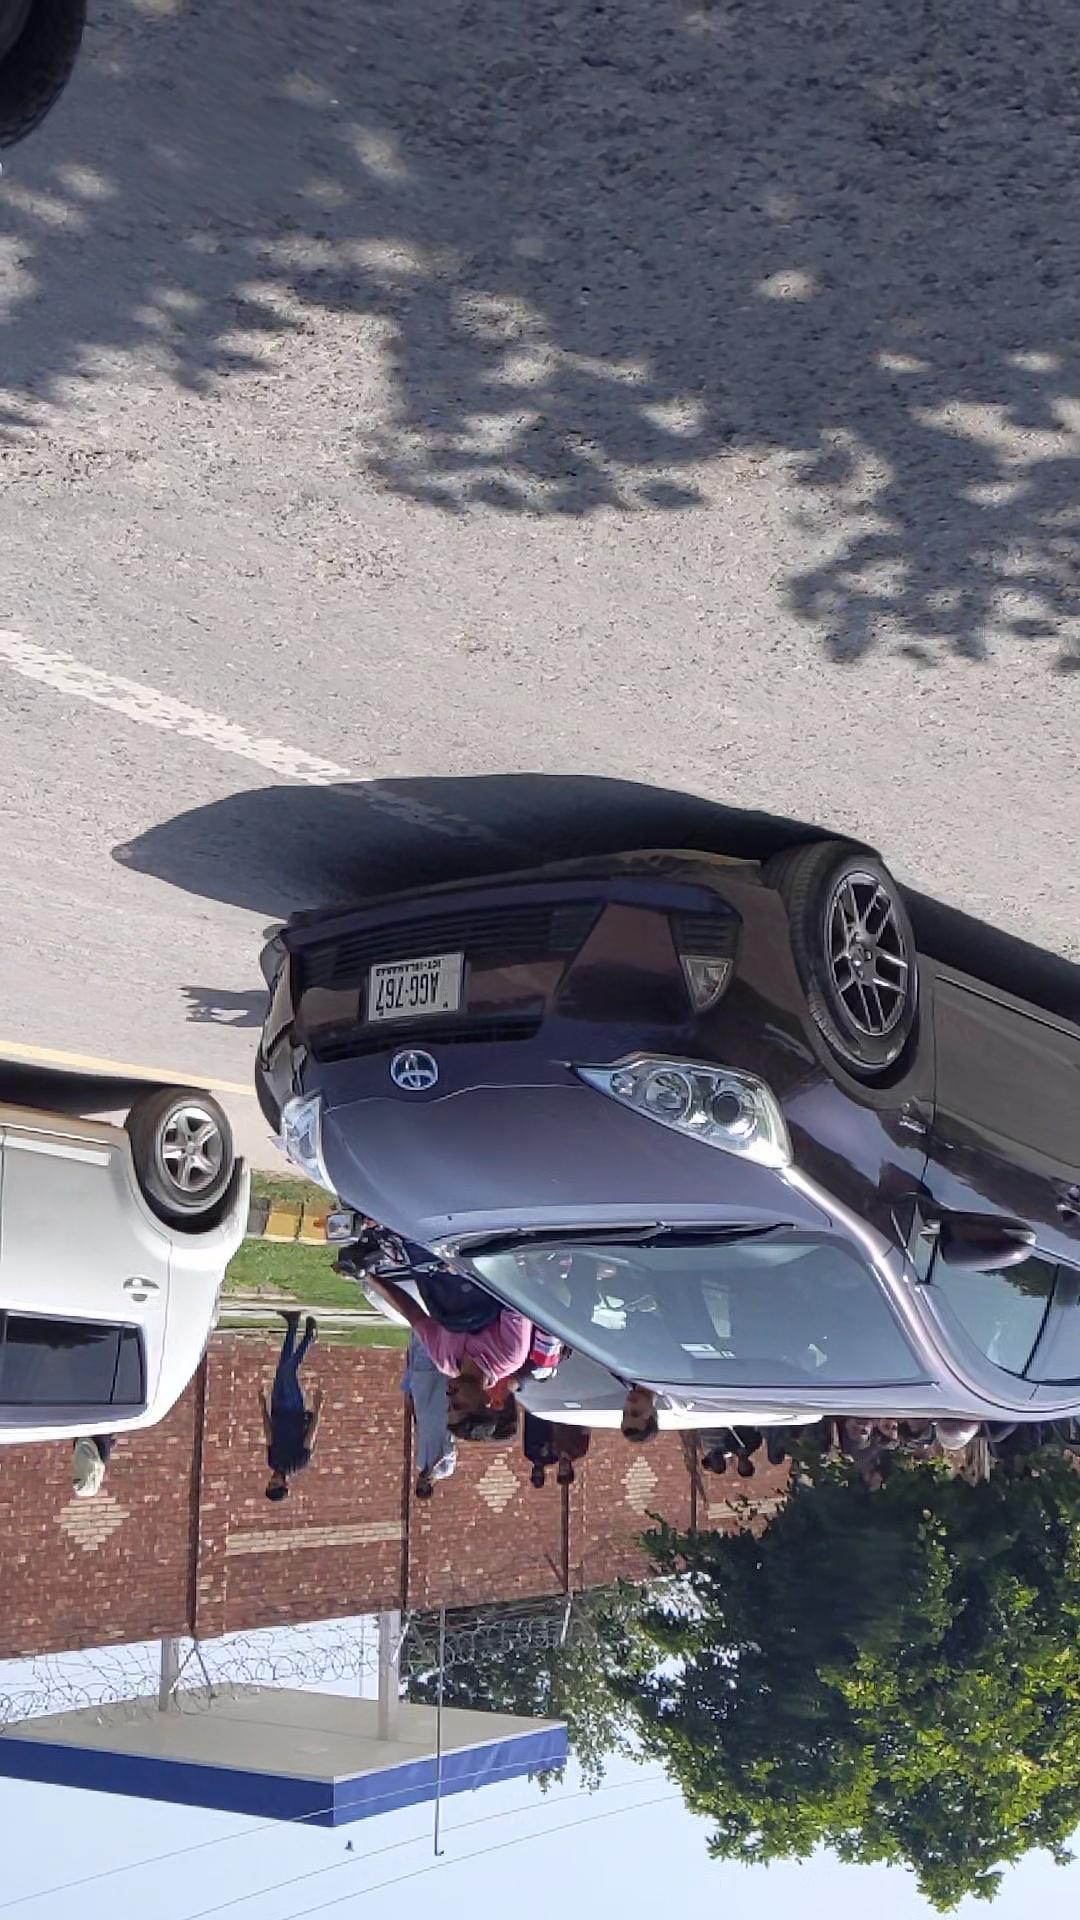windshield: (131, 510, 651, 731)
